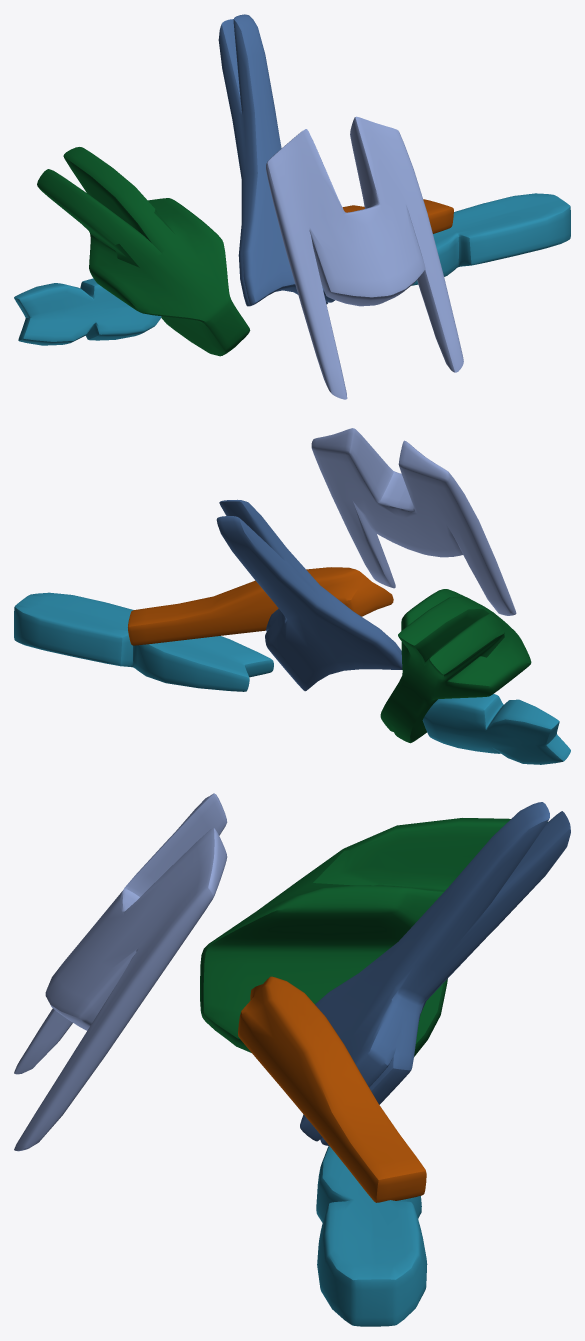
File: BackgroundTrimmings.fbx
3 renders of one model, top to bottom at view 1: azimuth 30°, elevation 25°; view 2: azimuth 150°, elevation 25°; view 3: azimuth 270°, elevation 25°, orthographic. The views are drawn at different scales.
Parts seen in each view (by area): view 1: Shipwright.004; view 2: Shipwright.004; view 3: Shipwright.004.
Part boxes in pixels (x1,y1,x2,y2): Shipwright.004: (14,14,570,399); Shipwright.004: (14,428,570,764); Shipwright.004: (14,793,570,1326).
Size of the model in its own units: 4411 by 1906 by 2792.
